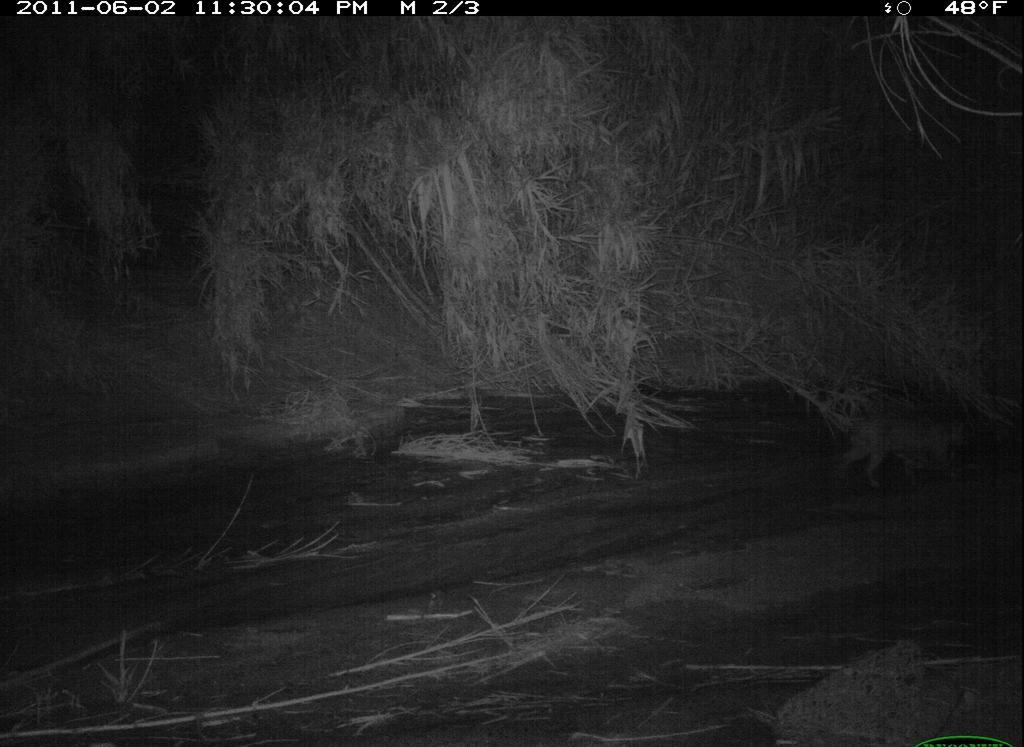bobcat: (820, 387, 982, 502)
